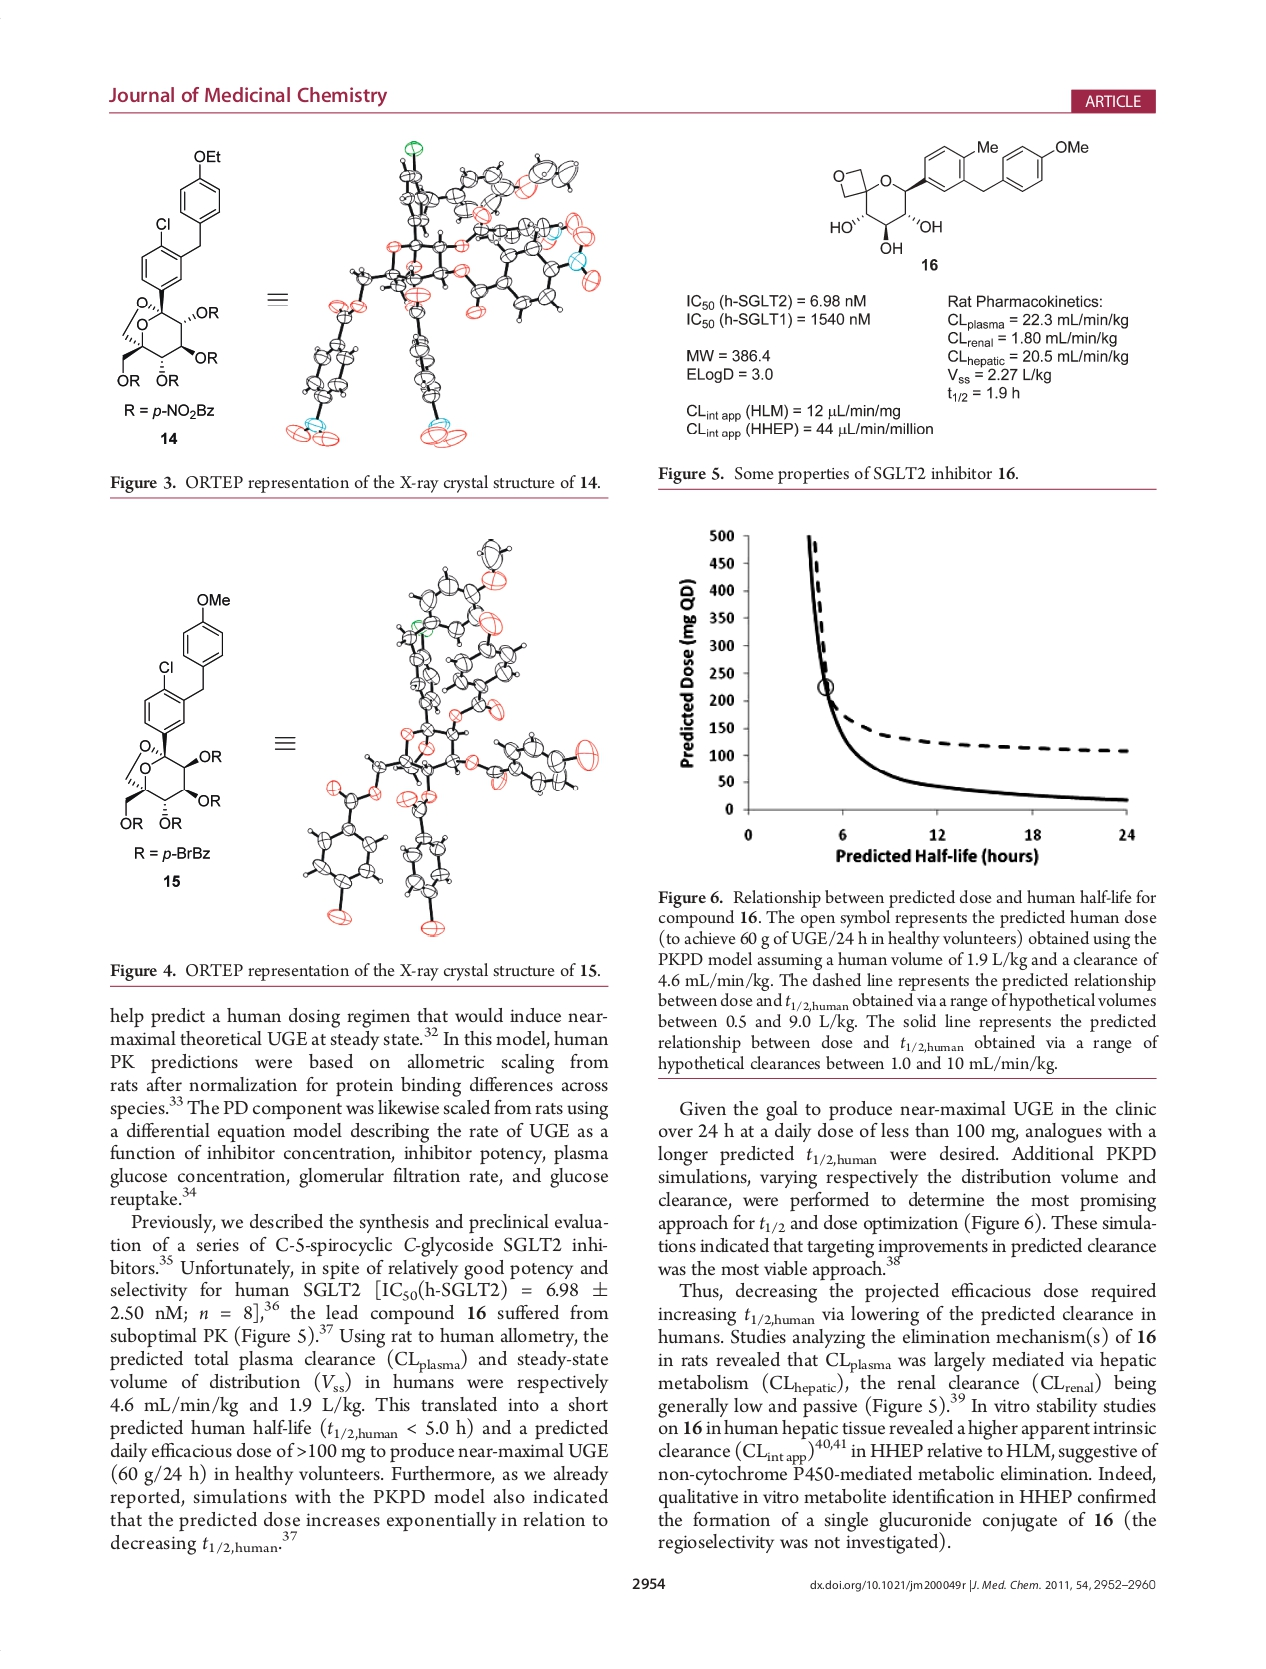exist_molecular: (827, 136, 1090, 261), (114, 586, 234, 830), (113, 146, 225, 392)
